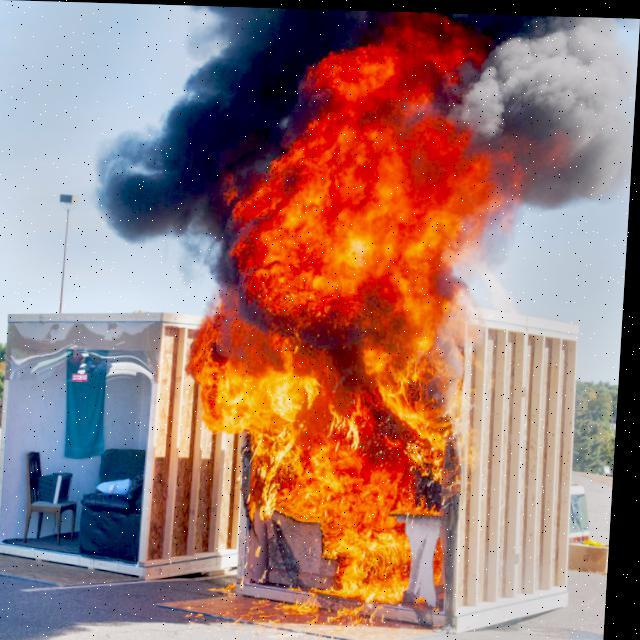Fire: (184, 49, 516, 632)
